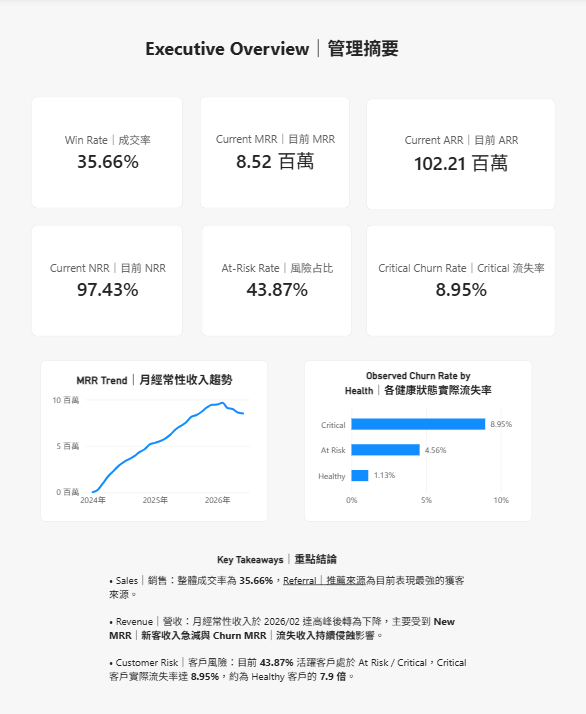

What the dashboard file says about the page in this screenshot:
{"tool":"powerbi","page":{"name":"Executive Overview｜管理摘要","canvas":[1920,1080],"ordinal":0},"visuals":[{"type":"cardVisual","fields":{"Data":["saas_revops opportunities.Win Rate"]},"box":[57.5,150,225,166.2],"z":0},{"type":"cardVisual","fields":{"Data":["saas_revops monthly_revenue.Current MRR"]},"box":[307.5,150,223.8,166.2],"z":1000},{"type":"cardVisual","fields":{"Data":["saas_revops monthly_revenue.Current ARR"]},"box":[555,151.2,281.2,166.2],"z":2000},{"type":"cardVisual","fields":{"Data":["saas_revops monthly_revenue.Current NRR"]},"box":[57.5,340,225,166.2],"z":3000},{"type":"cardVisual","fields":{"Data":["saas_revops monthly_revenue.Current At-Risk Rate"]},"box":[308.8,340,223.8,166.2],"z":4000},{"type":"cardVisual","fields":{"Data":["saas_revops product_usage.Critical Churn Rate"]},"box":[555,340,281.2,166.2],"z":5000},{"type":"lineChart","title":"MRR Trend｜月經常性收入趨勢","fields":{"Category":["saas_revops monthly_revenue.revenue_month.變化.日期階層.年","saas_revops monthly_revenue.revenue_month.變化.日期階層.月"],"Y":["Sum(saas_revops monthly_revenue.ending_mrr)"]},"box":[70,540,337.5,240],"z":6000},{"type":"clusteredBarChart","title":"Observed Churn Rate by Health｜各健康狀態實際流失率","fields":{"Category":["saas_revops product_usage.health_status"],"Y":["saas_revops product_usage.Observed Churn Rate by Health"]},"box":[462.5,540,338.6,240],"z":7000},{"type":"textbox","title":"Key Takeaways｜重點結論","box":[130.5,824,583.8,215],"z":8000},{"type":"textbox","box":[198.5,57.1,432.4,62.5],"z":9000}]}

Visuals, with their boxes on the page's 1920x1080 design canvas (x1, y1, x2, y2). These are canvas units, not pixel positions in the 586x714 screenshot, which may show the page scaled, cropped or inside an application window:
cardVisual - saas_revops opportunities.Win Rate: x1=58, y1=150, x2=282, y2=316
cardVisual - saas_revops monthly_revenue.Current MRR: x1=308, y1=150, x2=531, y2=316
cardVisual - saas_revops monthly_revenue.Current ARR: x1=555, y1=151, x2=836, y2=317
cardVisual - saas_revops monthly_revenue.Current NRR: x1=58, y1=340, x2=282, y2=506
cardVisual - saas_revops monthly_revenue.Current At-Risk Rate: x1=309, y1=340, x2=533, y2=506
cardVisual - saas_revops product_usage.Critical Churn Rate: x1=555, y1=340, x2=836, y2=506
"MRR Trend｜月經常性收入趨勢" lineChart: x1=70, y1=540, x2=408, y2=780
"Observed Churn Rate by Health｜各健康狀態實際流失率" clusteredBarChart: x1=462, y1=540, x2=801, y2=780
"Key Takeaways｜重點結論" textbox: x1=130, y1=824, x2=714, y2=1039
textbox: x1=198, y1=57, x2=631, y2=120
